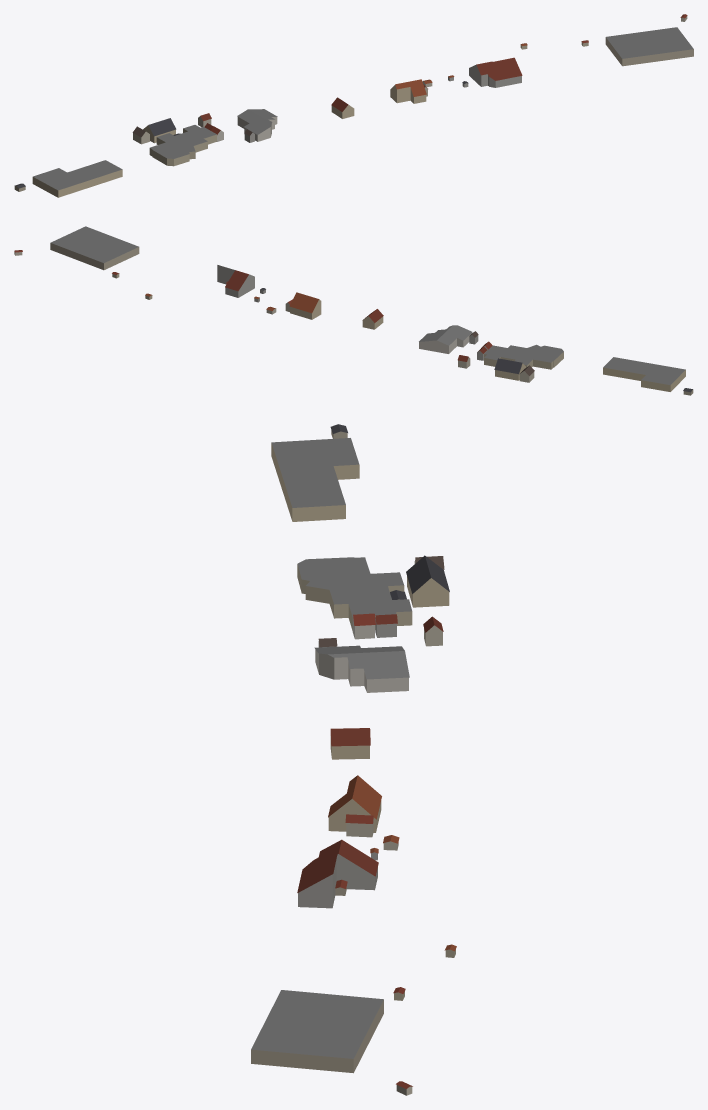
3 renders of one model, top to bottom at view 1: azimuth 30°, elevation 25°; view 2: azimuth 150°, elevation 25°; view 3: azimuth 270°, elevation 25°, orthographic. The views are drawn at different scales.
Visible parts, largest first — view 1: buildings; view 2: buildings; view 3: buildings.
Part boxes in pixels (left/top/right/bottom): buildings: left=14, top=14, right=693, bottom=197; buildings: left=14, top=226, right=693, bottom=395; buildings: left=251, top=424, right=456, bottom=1095.
Bounding box in the file's own units: 593 × 19.07 × 79.98.
